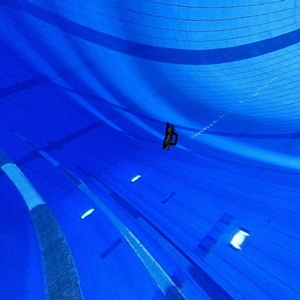submarine: (157, 118, 179, 153)
